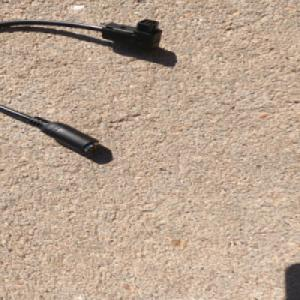Wire: (0, 18, 174, 155)
